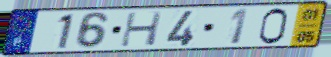0: (257, 6, 291, 45)
1: (228, 7, 250, 47), (55, 12, 76, 50)
4: (165, 9, 198, 48)
6: (74, 11, 111, 50)
H: (118, 10, 165, 48)
